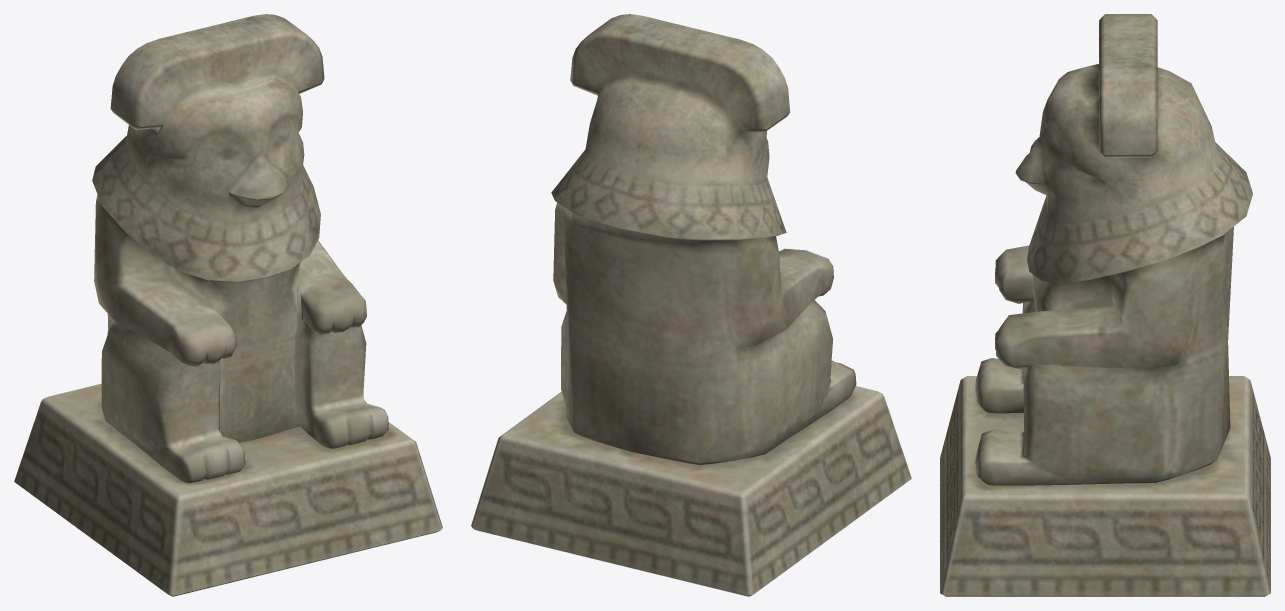
File: boss-statue.glb
3 renders of one model, left to right at view 1: azimuth 30°, elevation 25°; view 2: azimuth 150°, elevation 25°; view 3: azimuth 270°, elevation 25°, orthographic. The views are drawn at different scales.
Visible parts, largest first — view 1: Scene; view 2: Scene; view 3: Scene.
Boxes of the visible parts, x1=… form: Scene: x1=14, y1=14, x2=442, y2=596; Scene: x1=471, y1=14, x2=911, y2=596; Scene: x1=940, y1=14, x2=1270, y2=596.
Size of the model in its own units: 9.99 by 16.18 by 9.99.
1 material, 1 textured.
